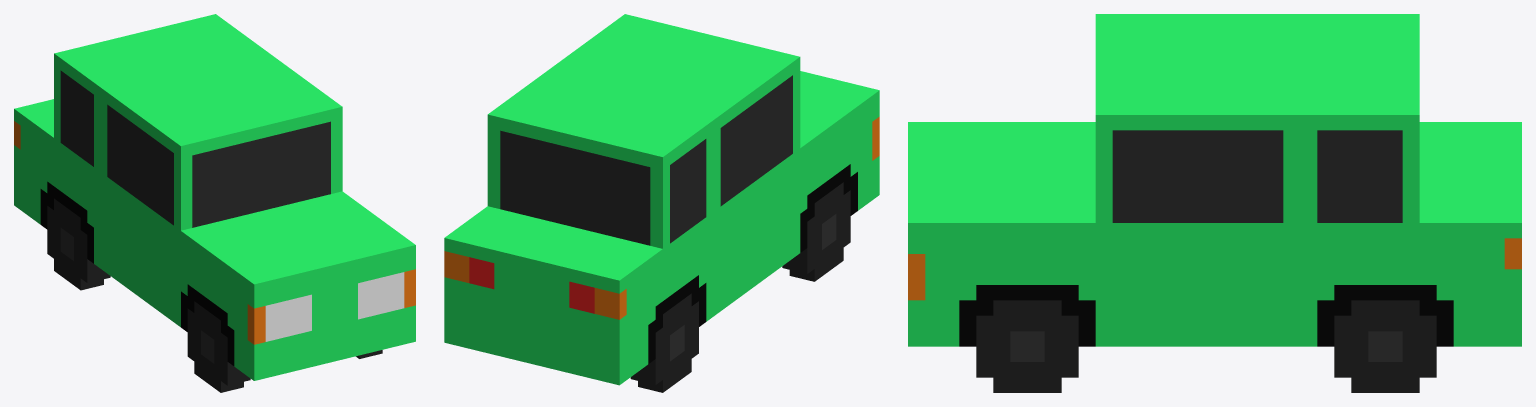
The model's file is kit-voxel-standard-green.glb.
The picture shows the model from 3 angles, left to right: view 1: azimuth 30°, elevation 25°; view 2: azimuth 150°, elevation 25°; view 3: azimuth 270°, elevation 25°; orthographic projection. The views are drawn at different scales.
Visible parts, largest first — view 1: geometry_1; view 2: geometry_1; view 3: geometry_1.
Part boxes in pixels (x1,y1,x2,y2): geometry_1: (14,14,415,392); geometry_1: (444,14,879,392); geometry_1: (908,14,1521,392).
Size of the model in its own units: 1.4 by 1.8 by 3.6.
1 material, 1 textured.
